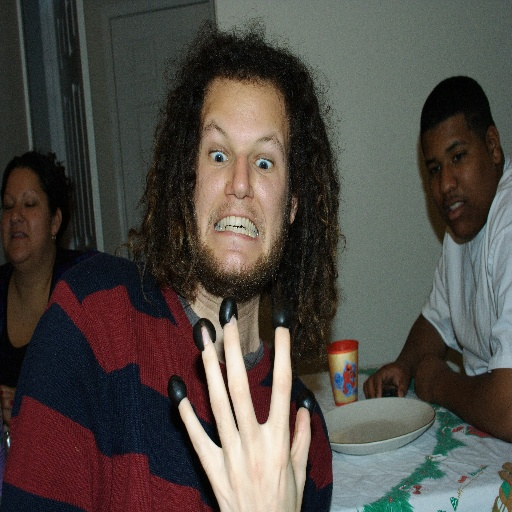hand: (176, 298, 320, 510), (415, 349, 452, 407), (362, 362, 411, 398), (0, 385, 17, 428)
